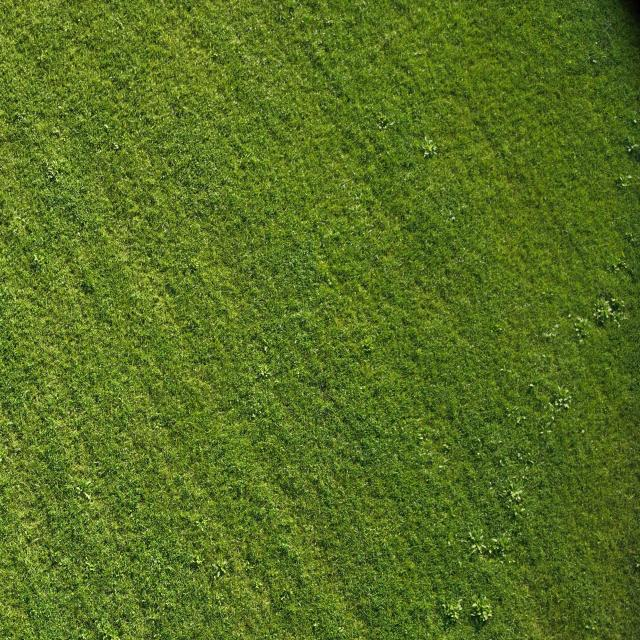rumex: (331, 165, 386, 243), (374, 7, 413, 60), (81, 606, 124, 639), (293, 363, 335, 396), (416, 428, 447, 472), (562, 50, 600, 80), (606, 258, 635, 285), (546, 389, 572, 418), (618, 228, 640, 262), (43, 153, 67, 180), (254, 360, 273, 393), (488, 532, 512, 558), (504, 488, 524, 512), (541, 324, 562, 346), (442, 605, 462, 628), (622, 135, 640, 158), (211, 559, 229, 579), (73, 482, 91, 500), (161, 278, 178, 296), (614, 174, 631, 189), (298, 317, 312, 335), (599, 303, 614, 319), (583, 617, 598, 633), (494, 148, 508, 165), (472, 542, 491, 554), (587, 52, 601, 68), (574, 316, 588, 331), (148, 555, 162, 569), (257, 363, 271, 377), (613, 256, 626, 270), (594, 313, 606, 328), (491, 324, 504, 336), (608, 298, 620, 311), (321, 229, 335, 240), (233, 484, 242, 500), (280, 588, 291, 601), (33, 253, 43, 267), (361, 341, 372, 353), (525, 384, 536, 396), (134, 269, 140, 290), (376, 119, 387, 130), (516, 418, 526, 429), (194, 554, 204, 565), (189, 256, 199, 267), (253, 580, 264, 590), (213, 568, 222, 580), (479, 612, 488, 624), (116, 16, 124, 29), (86, 562, 96, 572), (238, 160, 248, 170), (624, 232, 634, 242), (188, 264, 197, 275), (470, 544, 479, 554), (468, 530, 477, 540), (79, 630, 89, 639), (628, 382, 638, 391), (260, 337, 268, 348), (146, 248, 154, 259), (144, 614, 156, 621), (12, 442, 21, 451), (544, 420, 553, 429), (324, 18, 334, 26), (312, 474, 320, 484), (215, 592, 223, 602), (632, 142, 640, 152), (514, 493, 522, 502), (557, 385, 565, 394), (491, 537, 500, 545), (566, 58, 574, 66), (573, 324, 581, 332), (210, 51, 218, 59), (564, 396, 572, 404), (248, 414, 256, 422), (423, 150, 431, 158), (486, 610, 493, 619), (424, 469, 432, 476), (341, 182, 348, 190), (338, 626, 345, 634), (584, 624, 592, 631), (47, 173, 54, 180), (552, 324, 560, 330), (383, 34, 389, 42), (540, 355, 548, 361), (564, 388, 570, 396), (313, 621, 319, 629), (602, 406, 608, 414), (418, 434, 424, 441), (528, 459, 534, 466), (427, 139, 433, 146), (113, 143, 119, 150), (614, 321, 620, 328), (56, 105, 62, 111), (476, 451, 482, 457), (388, 121, 394, 127), (627, 146, 633, 152), (517, 452, 522, 459), (447, 540, 452, 547), (39, 53, 43, 61), (264, 346, 268, 354), (76, 232, 81, 238), (232, 100, 237, 106), (450, 215, 456, 220), (548, 429, 554, 434), (432, 147, 437, 153), (417, 8, 422, 14), (360, 385, 364, 392), (194, 59, 198, 66), (636, 118, 640, 125), (529, 383, 534, 388), (627, 174, 632, 179), (499, 368, 505, 372), (499, 459, 503, 465), (104, 124, 108, 130), (540, 431, 544, 437), (551, 416, 555, 422), (521, 474, 525, 480), (484, 6, 488, 12), (542, 196, 546, 202), (637, 562, 640, 569), (77, 18, 81, 23), (581, 429, 585, 434), (568, 314, 572, 318)
